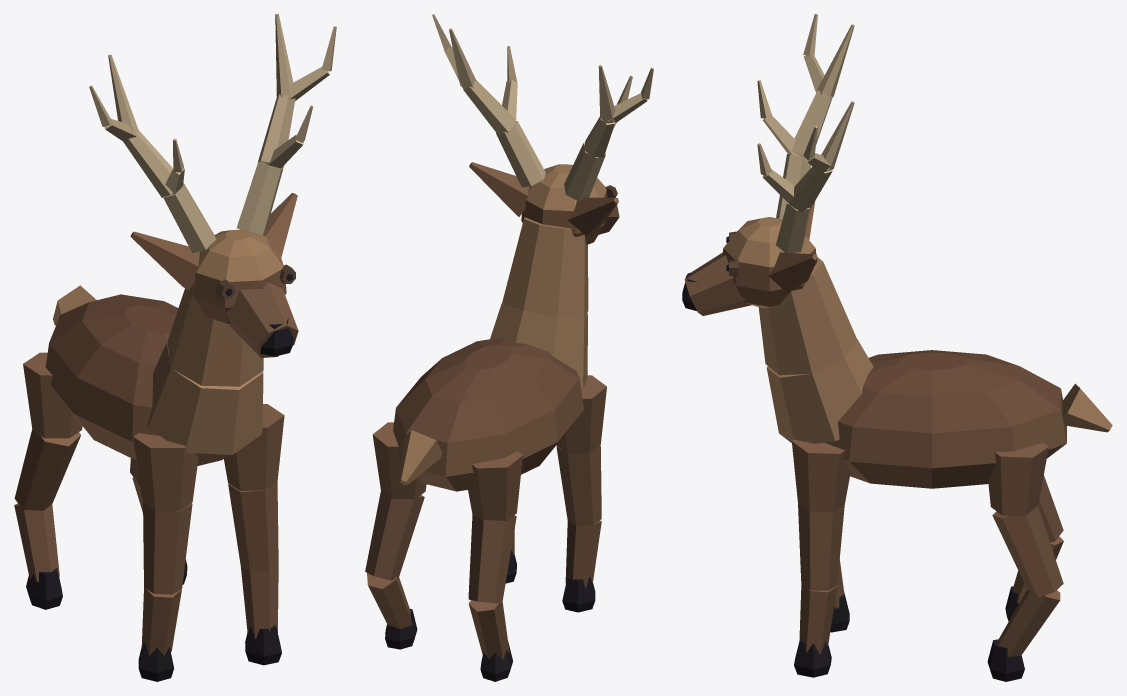
File: svalich-stag-healthy.glb
3 renders of one model, left to right at view 1: azimuth 30°, elevation 25°; view 2: azimuth 150°, elevation 25°; view 3: azimuth 270°, elevation 25°, orthographic. The views are drawn at different scales.
Parts seen in each view (by area): view 1: Svalich stag · healthy; view 2: Svalich stag · healthy; view 3: Svalich stag · healthy.
Part boxes in pixels (left/top/right/bottom): Svalich stag · healthy: left=14, top=14, right=336, bottom=681; Svalich stag · healthy: left=365, top=14, right=653, bottom=681; Svalich stag · healthy: left=682, top=14, right=1112, bottom=681.
Bounding box in the file's own units: 0.6456 × 1.55 × 1.03.
